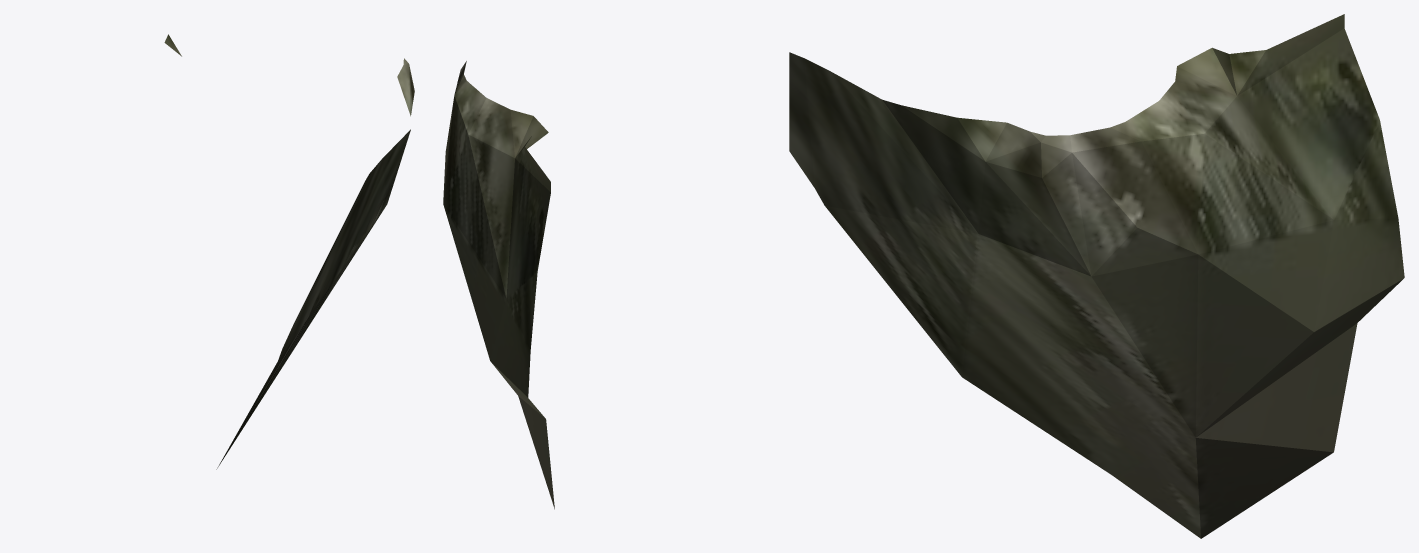
3 views of the same model, side by side, from view 1: azimuth 30°, elevation 25°; view 2: azimuth 150°, elevation 25°; view 3: azimuth 270°, elevation 25° (orthographic). The views are drawn at different scales.
Size of the model in its own units: 0.7289 by 1.41 by 1.5.
1 material, 1 textured.
